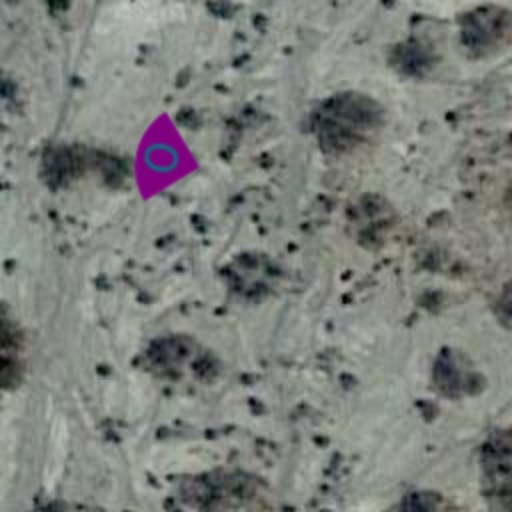quarter_circle: (108, 104, 216, 212)
